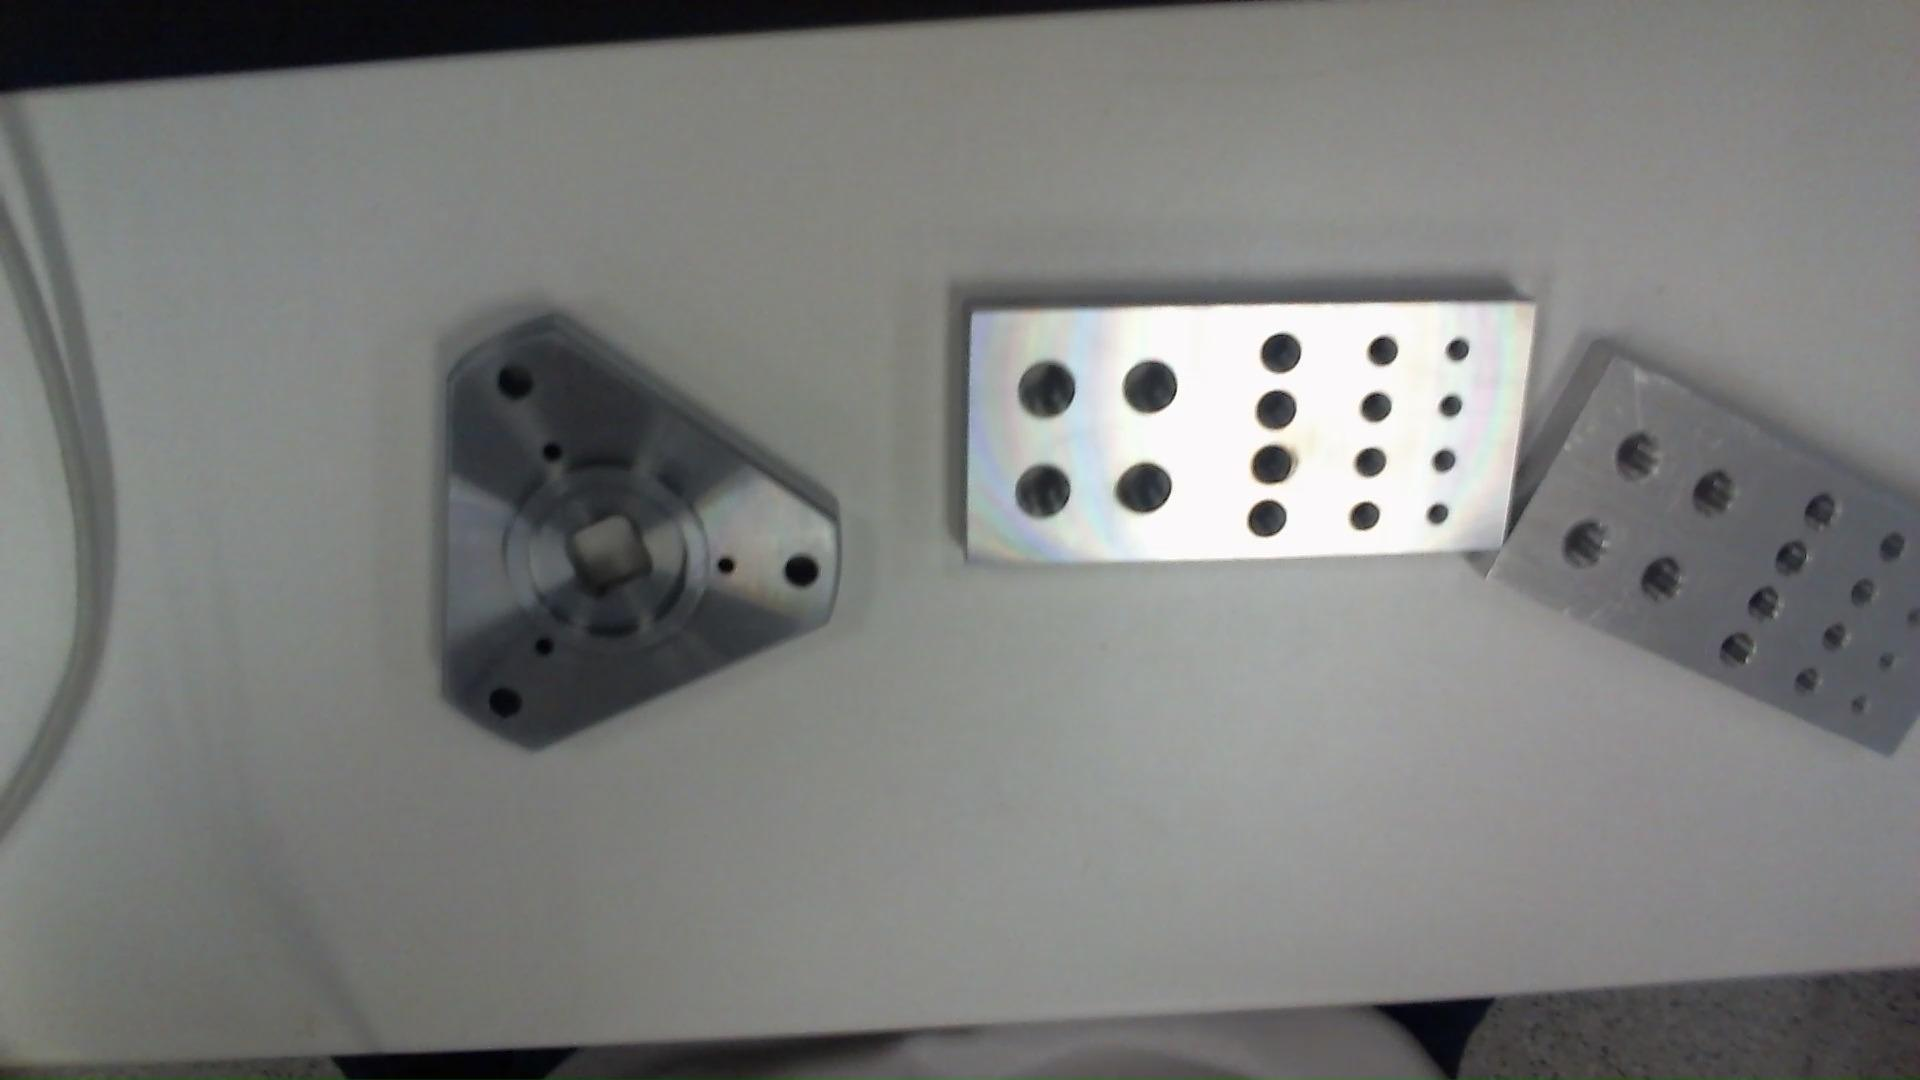hole: (1006, 464, 1076, 525), (1113, 459, 1172, 522), (1613, 431, 1669, 497), (1015, 364, 1077, 423), (1118, 356, 1183, 413), (1687, 464, 1741, 530), (1557, 520, 1611, 582), (1633, 554, 1684, 612), (1247, 439, 1303, 491), (485, 680, 541, 729), (1250, 389, 1302, 436), (1255, 331, 1308, 376), (1716, 633, 1759, 679), (1246, 500, 1288, 546), (1771, 541, 1813, 587), (497, 359, 537, 406), (1799, 491, 1840, 535), (1871, 526, 1912, 568), (1745, 584, 1783, 629), (785, 553, 825, 592), (1350, 495, 1389, 533), (1352, 448, 1393, 483), (1365, 335, 1403, 371), (1844, 572, 1879, 611), (1360, 394, 1394, 429), (1429, 447, 1460, 483), (1791, 669, 1821, 703), (1822, 618, 1851, 654), (715, 547, 741, 585), (1445, 328, 1472, 367), (531, 626, 559, 662), (1437, 389, 1462, 426), (1422, 502, 1451, 531), (537, 435, 563, 465), (1874, 651, 1895, 684), (1845, 704, 1874, 728)
